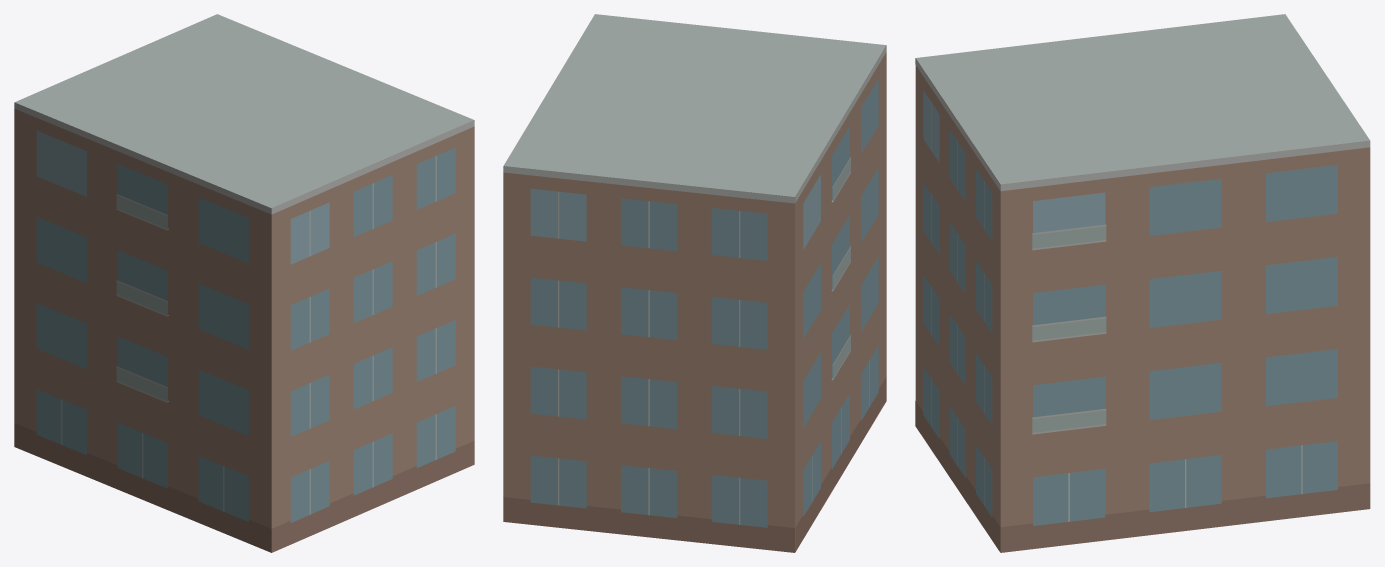
Rendered from survey-upis-33024568.glb.
3 views of the same model, side by side, from view 1: azimuth 30°, elevation 25°; view 2: azimuth 150°, elevation 25°; view 3: azimuth 270°, elevation 25° (orthographic). The views are drawn at different scales.
Parts seen in each view (by area): view 1: survey-upis-33024568.tmp; view 2: survey-upis-33024568.tmp; view 3: survey-upis-33024568.tmp.
Part boxes in pixels (left/top/right/bottom): survey-upis-33024568.tmp: left=14, top=14, right=474, bottom=552; survey-upis-33024568.tmp: left=503, top=14, right=886, bottom=552; survey-upis-33024568.tmp: left=915, top=14, right=1370, bottom=552.
Size of the model in its own units: 13.29 by 13.37 by 14.97.
